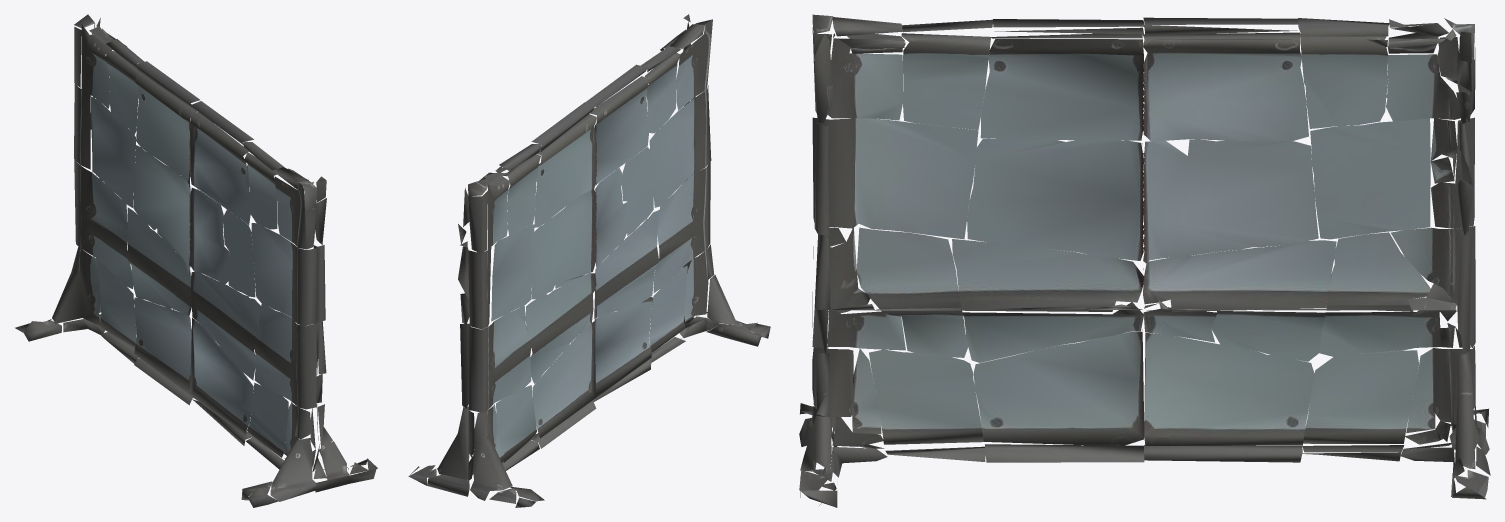
Rendered from arch_glass_barrier_LOD3.glb.
The picture shows the model from 3 angles, left to right: view 1: azimuth 30°, elevation 25°; view 2: azimuth 150°, elevation 25°; view 3: azimuth 270°, elevation 25°; orthographic projection. The views are drawn at different scales.
Parts seen in each view (by area): view 1: tripo_node_7fcb3078-808f-4030-9b7c-97f93c8b896c; view 2: tripo_node_7fcb3078-808f-4030-9b7c-97f93c8b896c; view 3: tripo_node_7fcb3078-808f-4030-9b7c-97f93c8b896c.
Boxes of the visible parts, left/top/right/bottom form: tripo_node_7fcb3078-808f-4030-9b7c-97f93c8b896c: left=15, top=14, right=377, bottom=507; tripo_node_7fcb3078-808f-4030-9b7c-97f93c8b896c: left=408, top=14, right=770, bottom=507; tripo_node_7fcb3078-808f-4030-9b7c-97f93c8b896c: left=799, top=14, right=1490, bottom=507.
Bounding box in the file's own units: 0.3042 × 0.7094 × 0.9998.
1 material, 1 textured.
